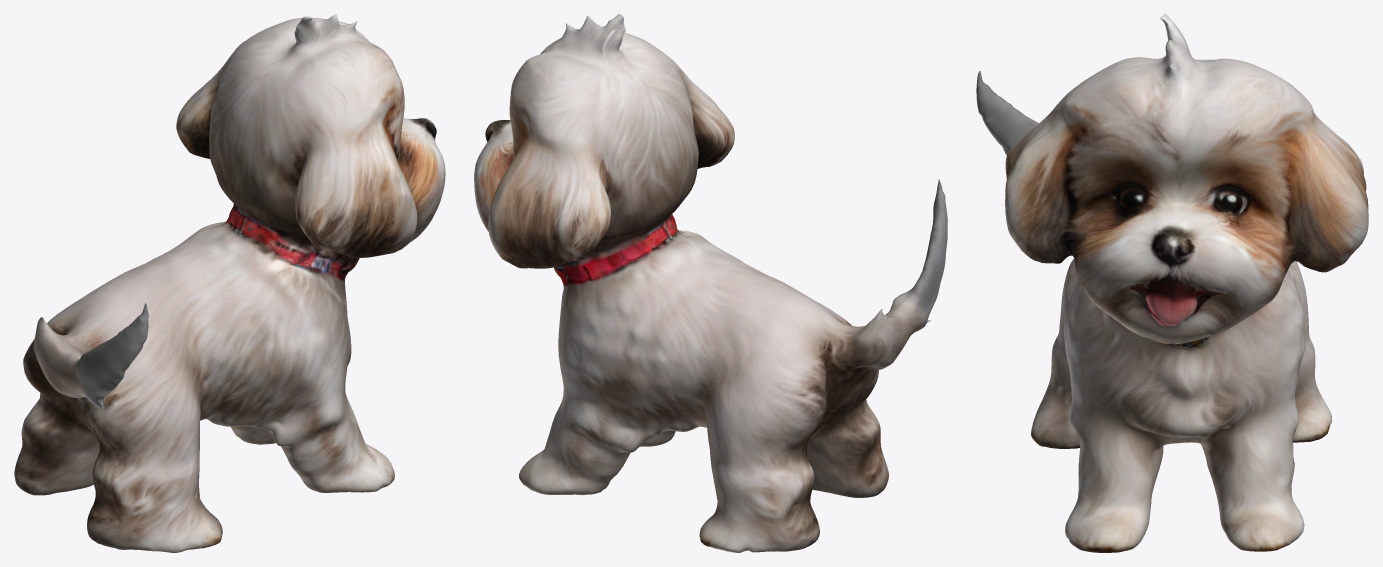
The model's file is dog.glb.
3 views of the same model, side by side, from view 1: azimuth 30°, elevation 25°; view 2: azimuth 150°, elevation 25°; view 3: azimuth 270°, elevation 25° (orthographic). The views are drawn at different scales.
Parts seen in each view (by area): view 1: Object_4; view 2: Object_4; view 3: Object_4.
Boxes of the visible parts, x1,y1,x2,y2 form: Object_4: [14, 14, 445, 552]; Object_4: [474, 14, 947, 552]; Object_4: [976, 14, 1368, 552].
Bounding box in the file's own units: 0.6774 × 0.7248 × 0.5046.
Materials: 1 (1 with a texture image).
